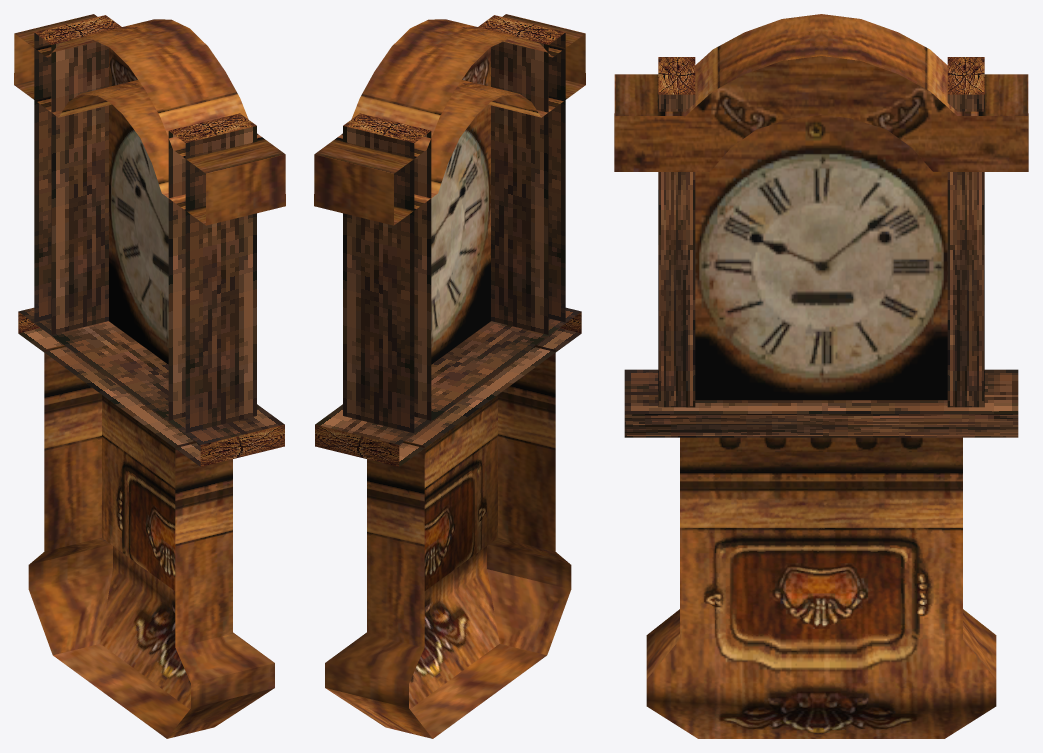
The model's file is INST_LT_WALLCLOCK.obj.
The picture shows the model from 3 angles, left to right: view 1: azimuth 30°, elevation 25°; view 2: azimuth 150°, elevation 25°; view 3: azimuth 270°, elevation 25°; orthographic projection. The views are drawn at different scales.
Parts seen in each view (by area): view 1: Inst_wallclock_; view 2: Inst_wallclock_; view 3: Inst_wallclock_.
Part boxes in pixels (left/top/right/bottom): Inst_wallclock_: left=14, top=14, right=285, bottom=738; Inst_wallclock_: left=314, top=14, right=585, bottom=738; Inst_wallclock_: left=614, top=14, right=1028, bottom=738.
Size of the model in its own units: 10.09 by 73.95 by 39.64.
